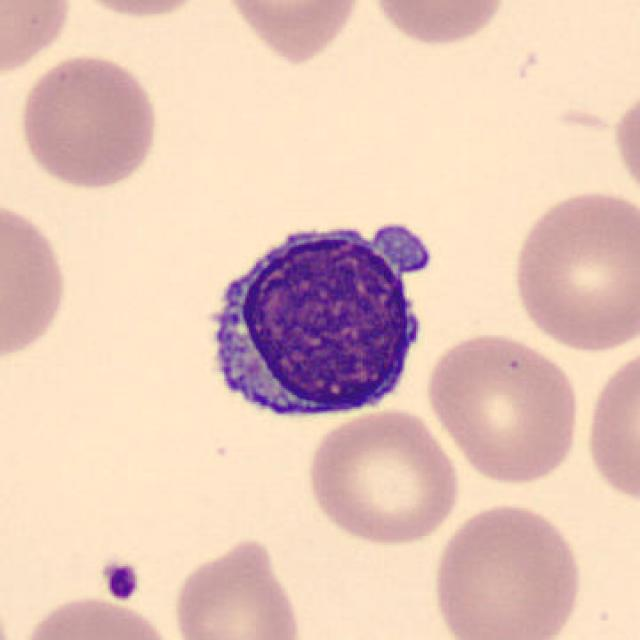Lymphocyte: (187, 202, 437, 434)
Platelets: (98, 557, 144, 605)
RBC: (421, 328, 583, 488), (505, 184, 640, 356), (302, 406, 464, 548), (426, 499, 586, 640), (14, 49, 162, 192), (169, 534, 306, 640), (0, 194, 73, 367), (581, 340, 640, 512), (217, 0, 366, 65), (14, 590, 183, 640), (364, 0, 511, 49), (0, 0, 76, 79), (608, 79, 640, 208), (61, 0, 220, 21)
